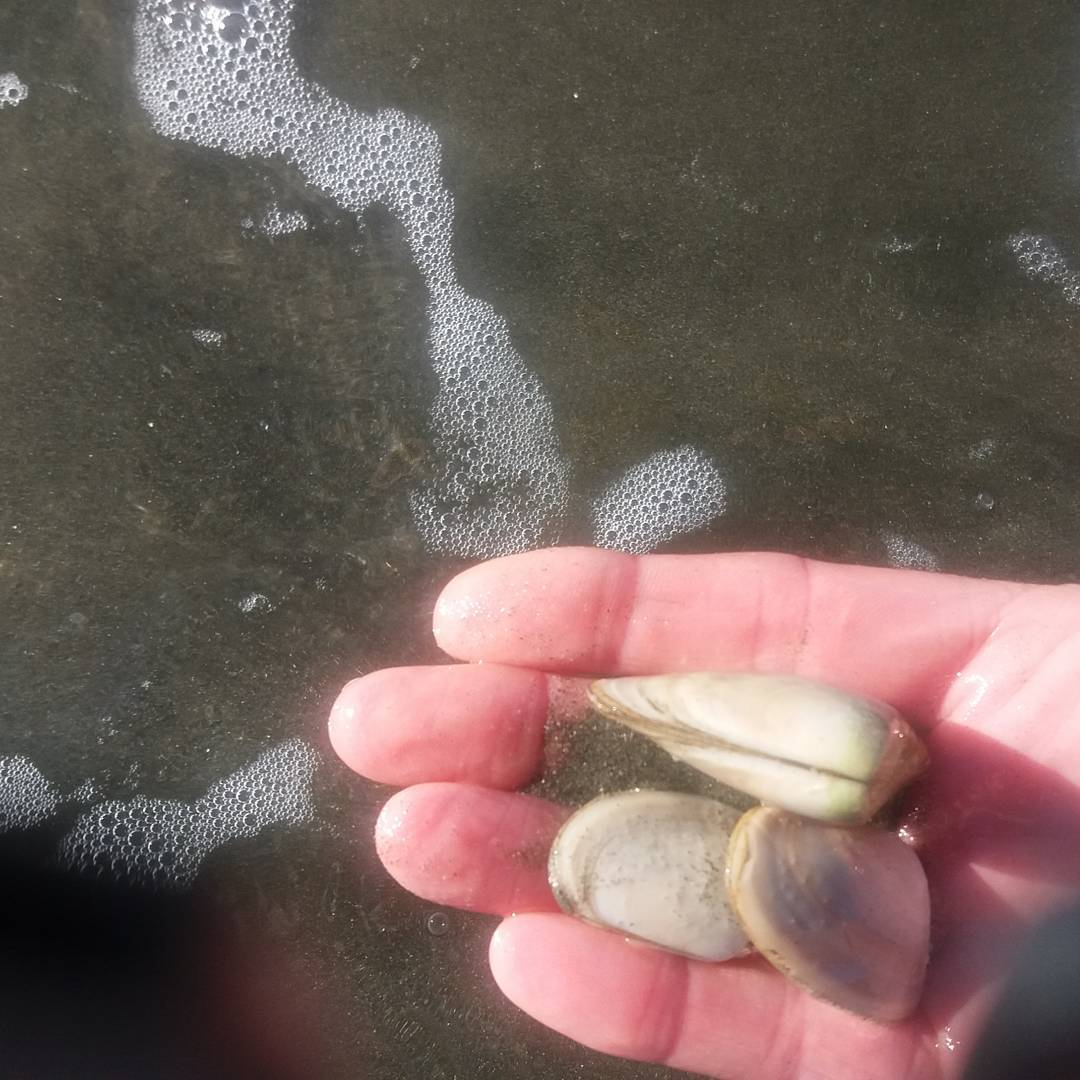tuatua: (717, 789, 935, 1036), (581, 674, 919, 832), (538, 778, 763, 975)
